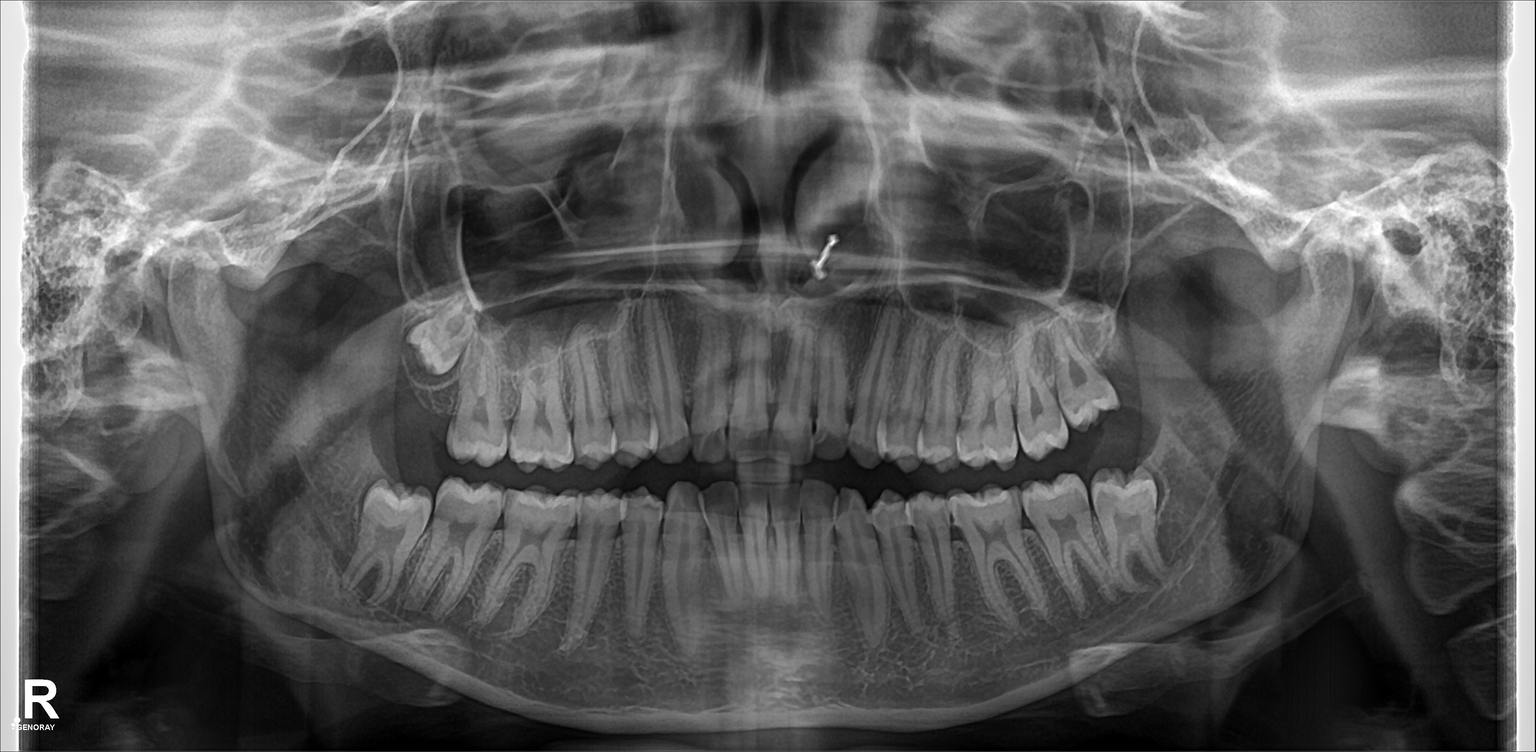Impacted Third Molar: (400, 298, 469, 378)
